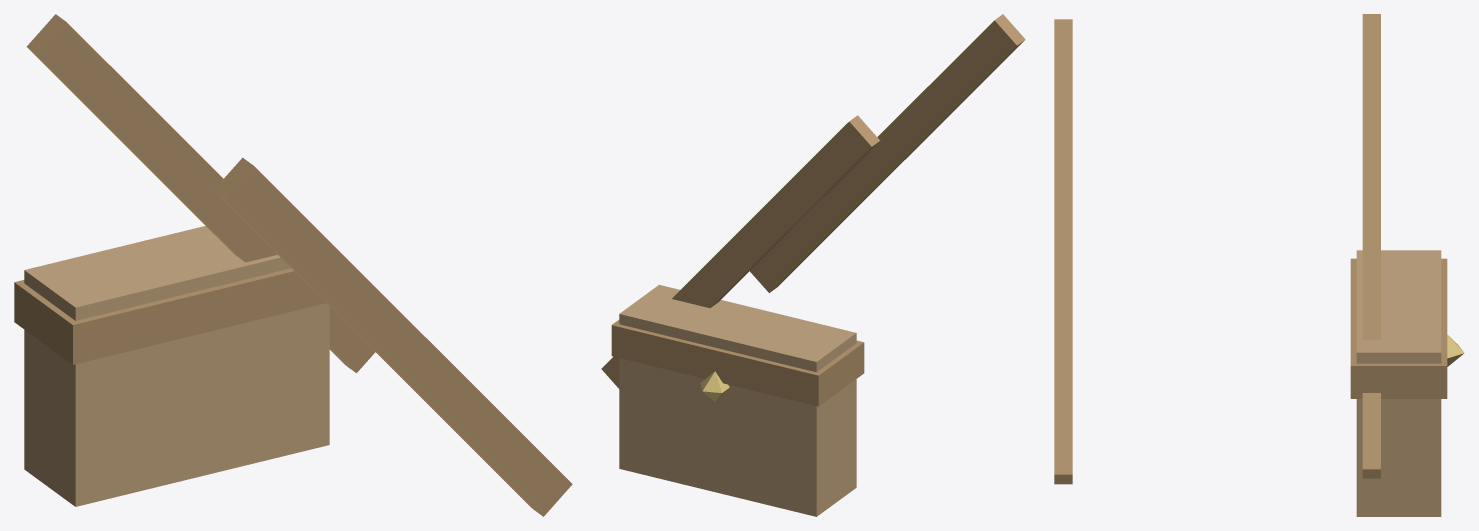
Rendered from av_pack_satchel.glb.
3 renders of one model, left to right at view 1: azimuth 30°, elevation 25°; view 2: azimuth 150°, elevation 25°; view 3: azimuth 270°, elevation 25°, orthographic. The views are drawn at different scales.
Bounding box in the file's own units: 0.5484 × 0.7276 × 0.6785.
